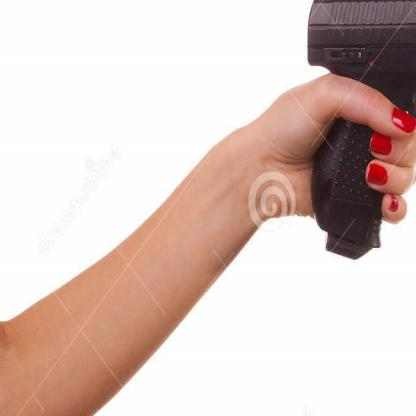gun: (308, 0, 416, 261)
